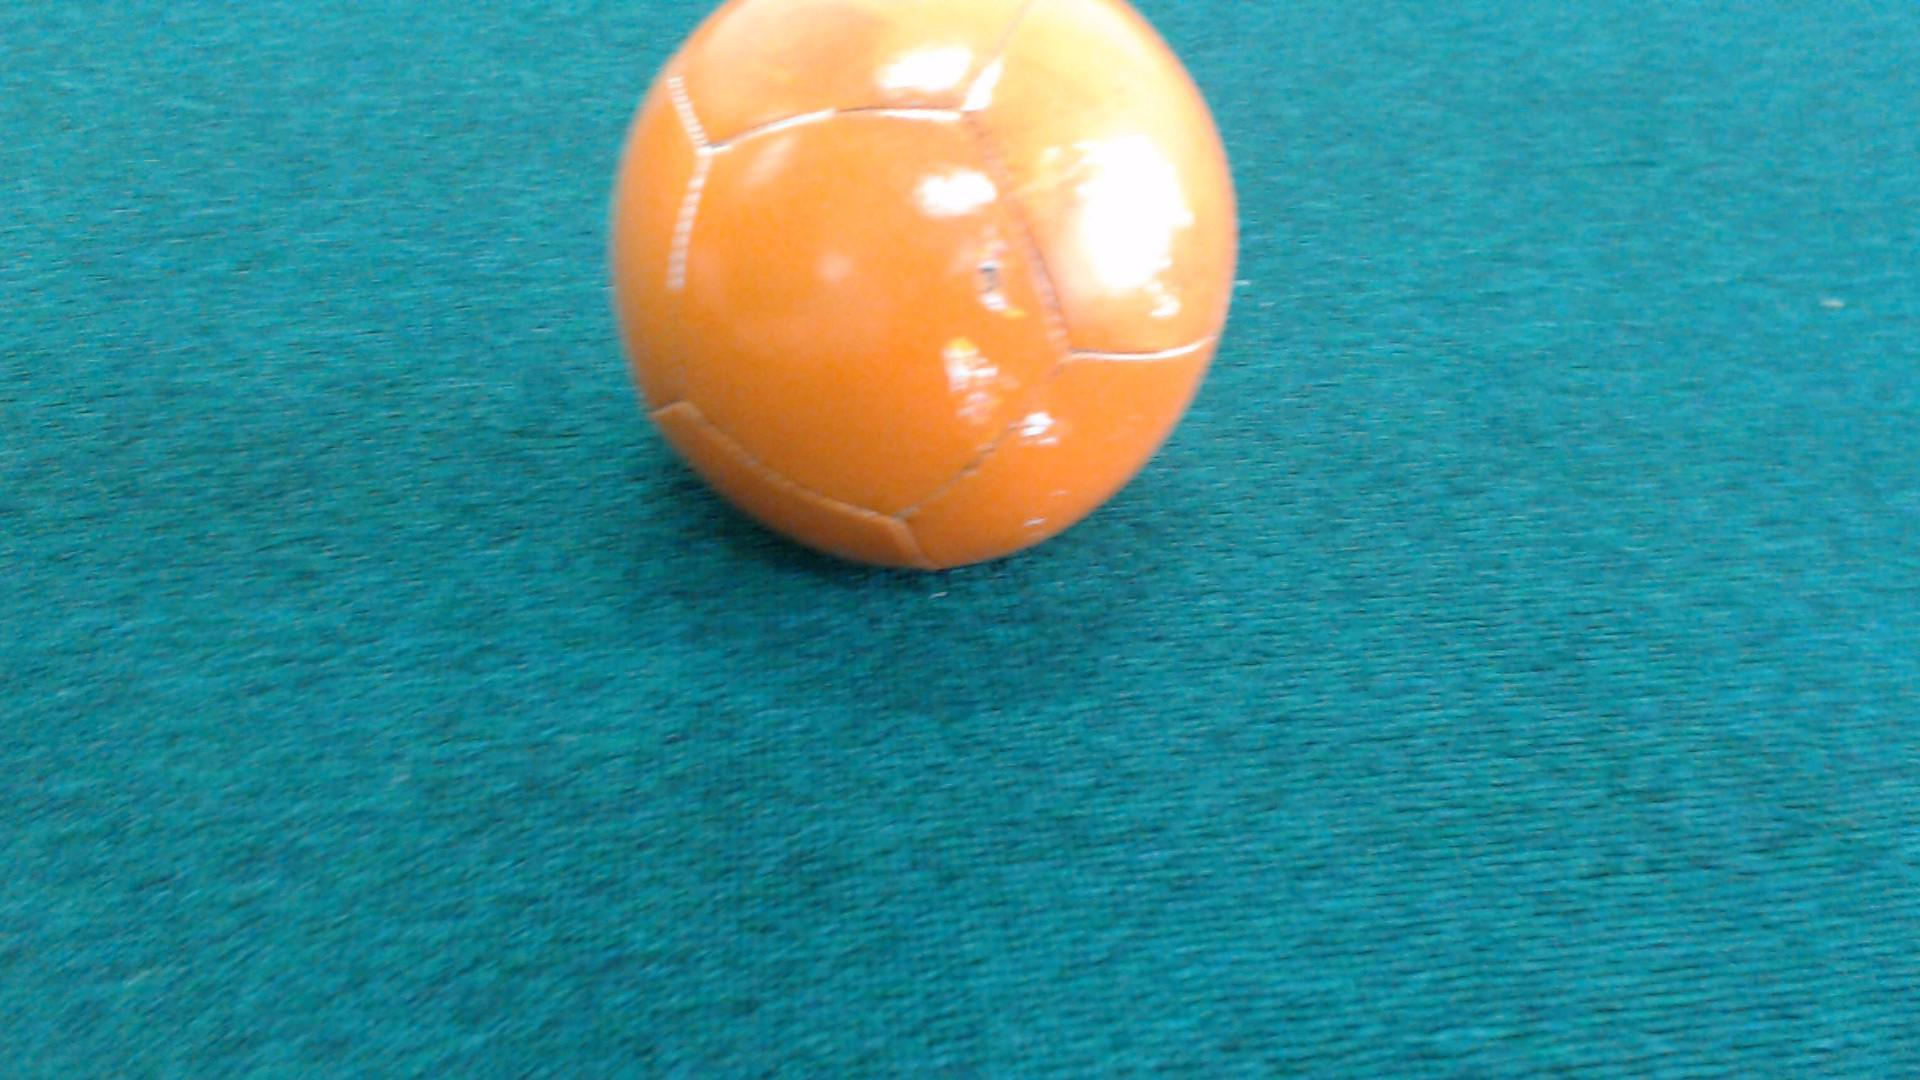bola: (588, 0, 1280, 608)
